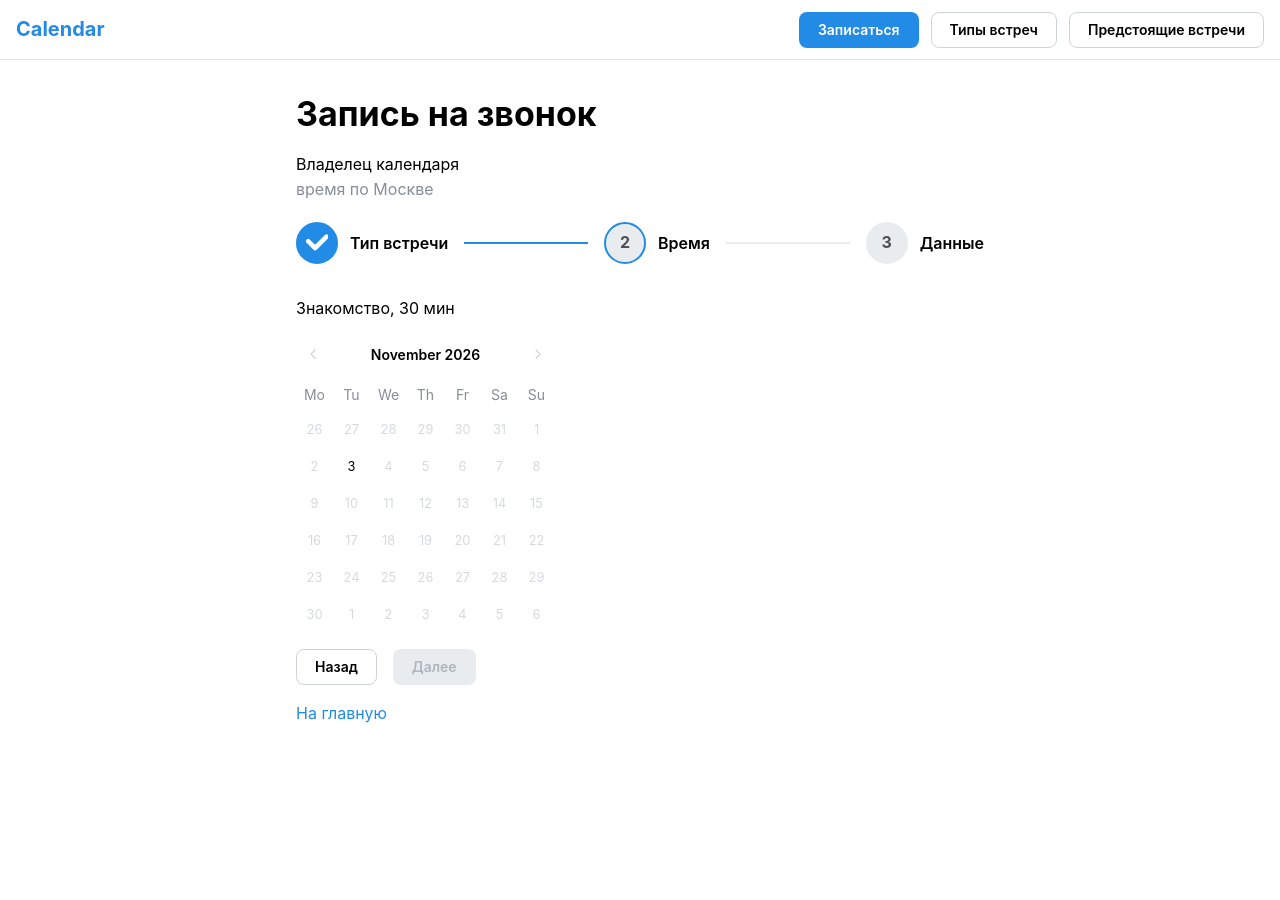
Test: шаг «Данные» › показывает сообщение, если время стало недоступно
The image size is (1280, 900).
Click the button named "3 November 2026" at (352, 467), box [334, 449, 370, 485]
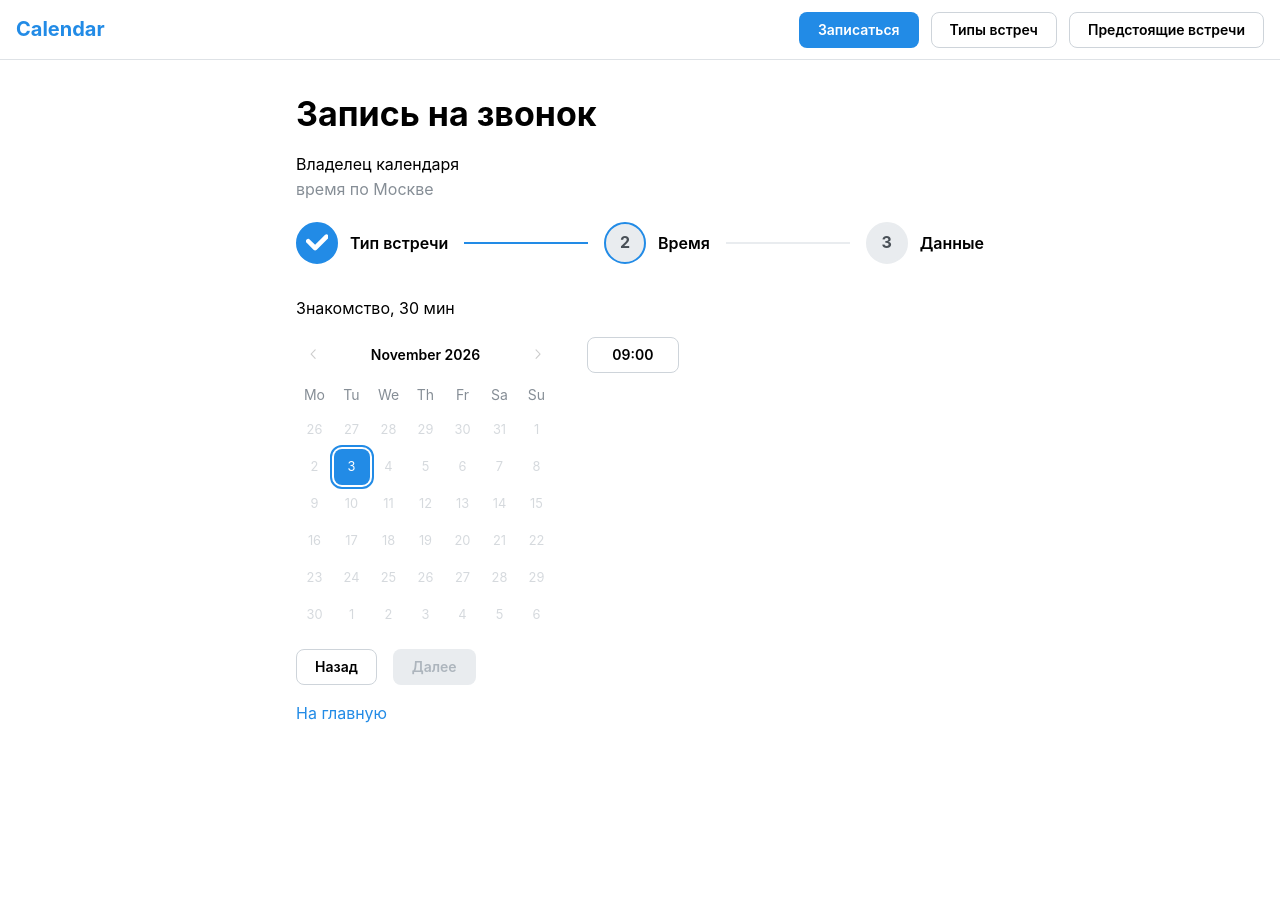
Click the button "09:00" at (633, 355), box [587, 337, 679, 373]
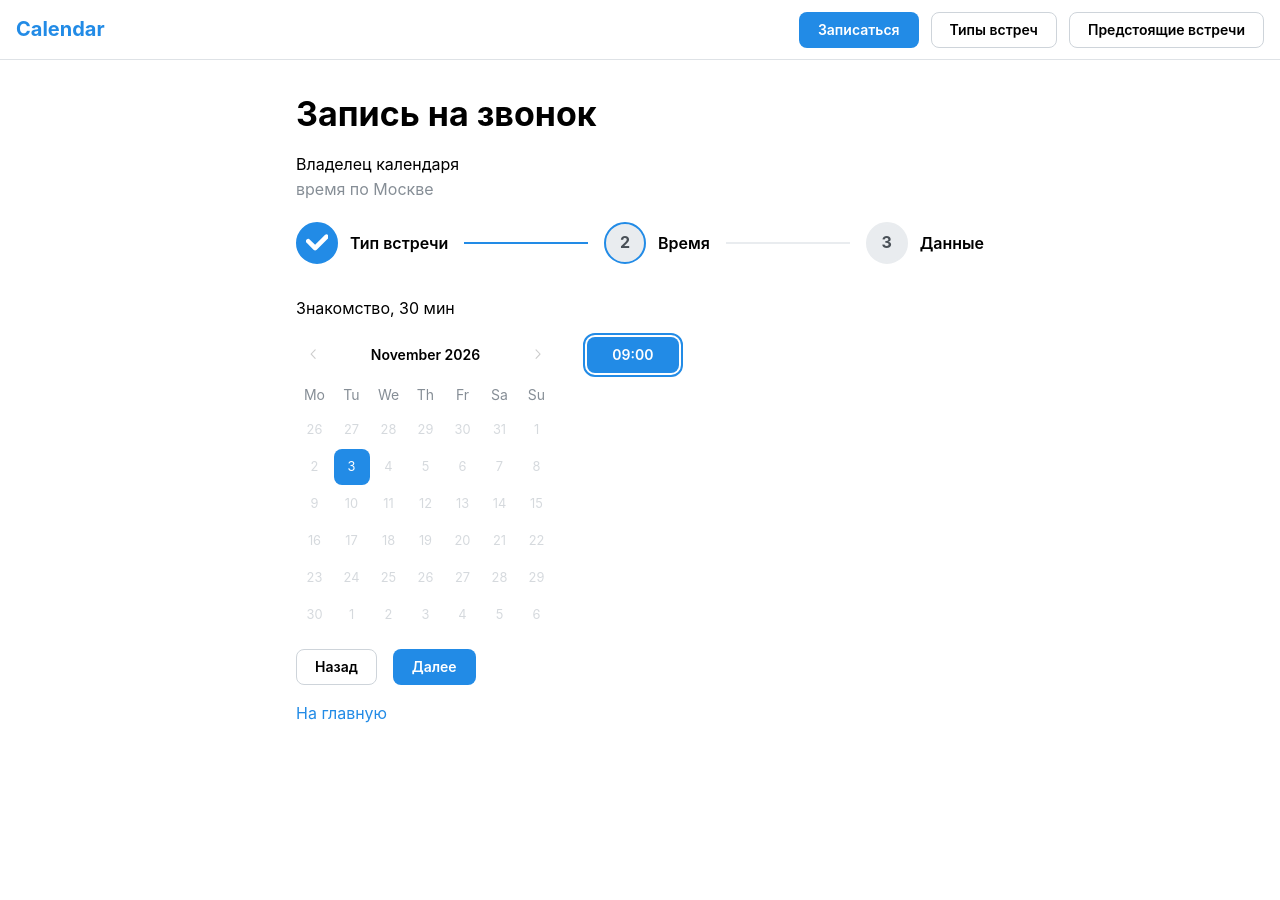
Click the button "Далее" at (434, 667), box [393, 649, 476, 685]
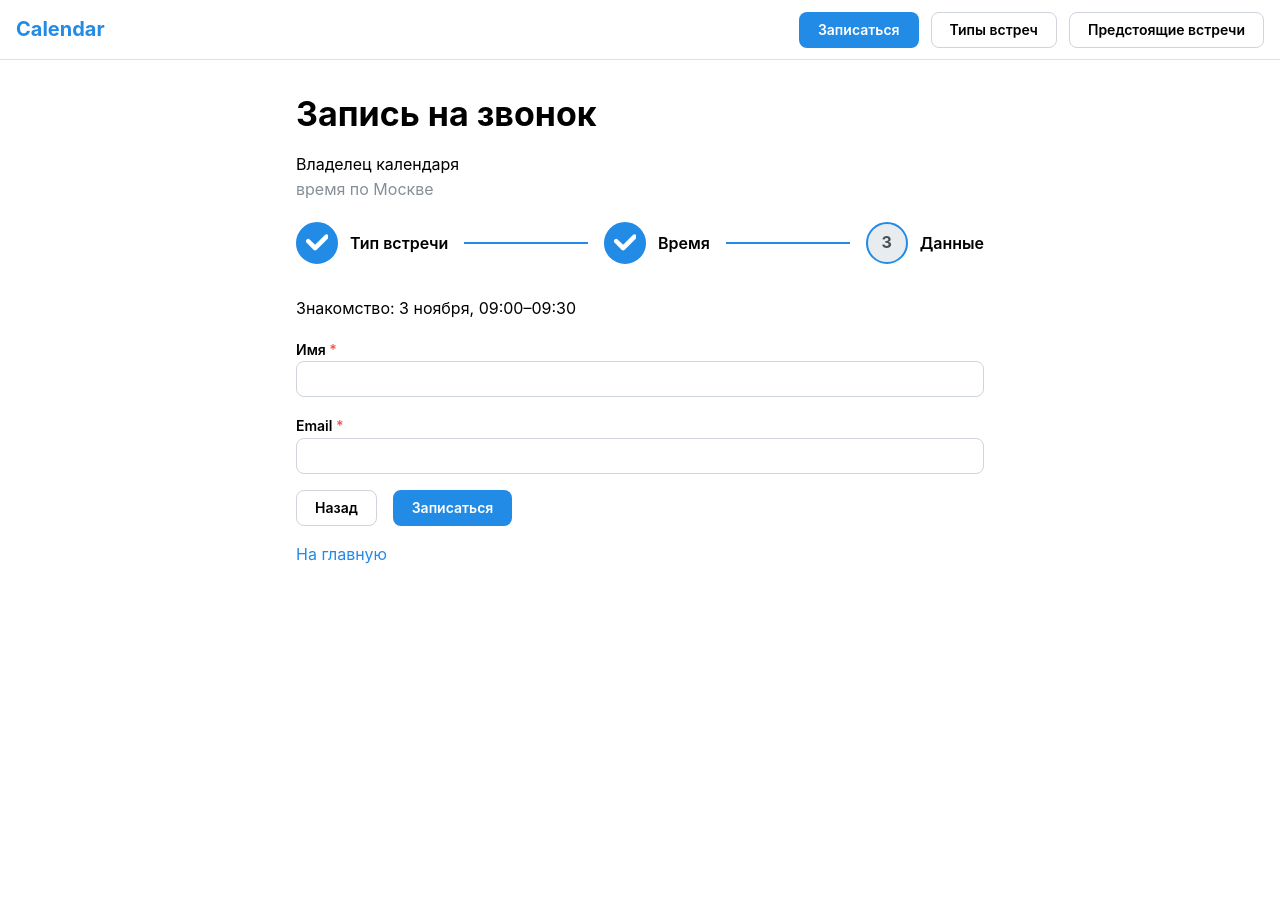
Click the button "Записаться" below "Email" at (452, 508), box [393, 490, 512, 526]
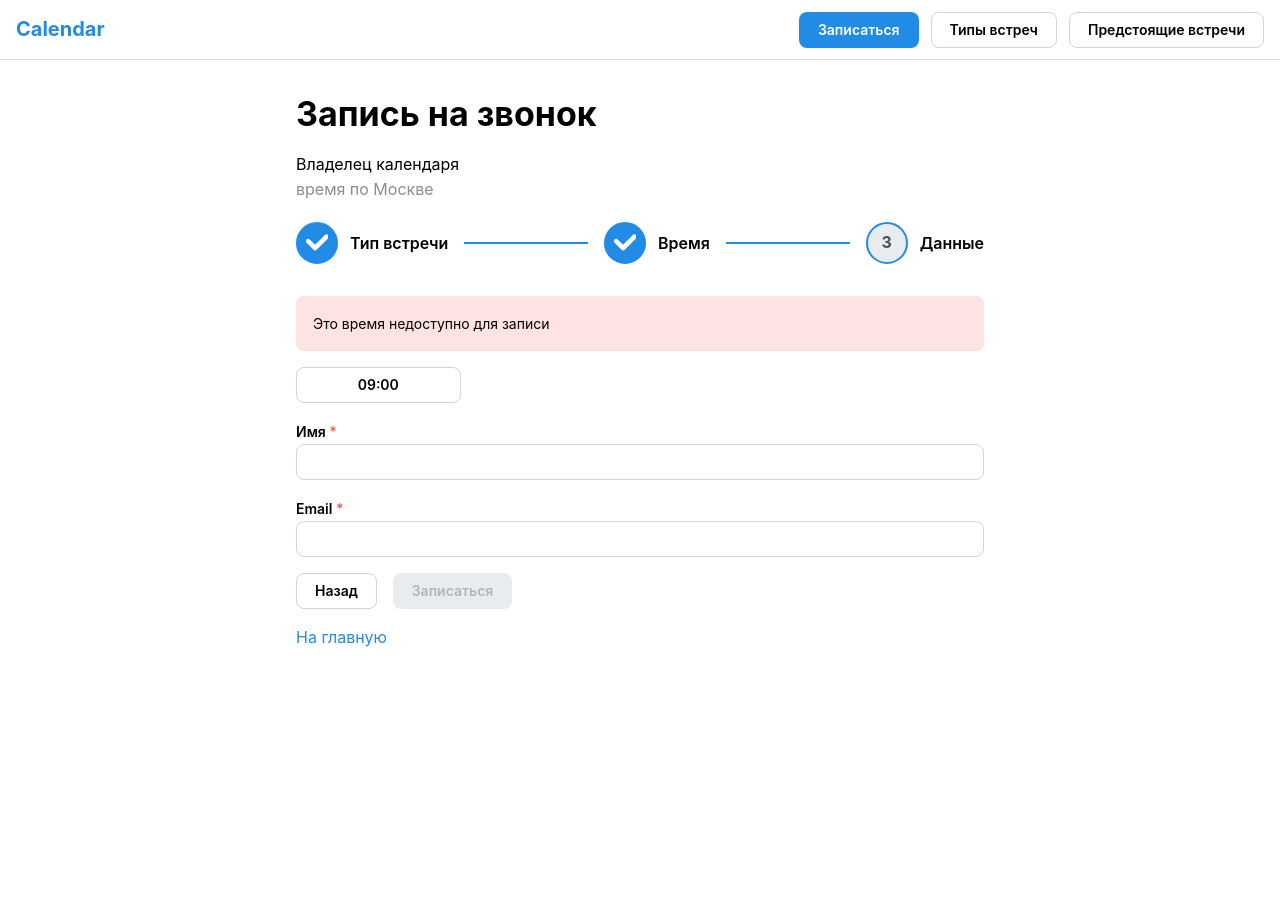
Now the text "Это время недоступно для записи" is shown, box [313, 315, 550, 332]
